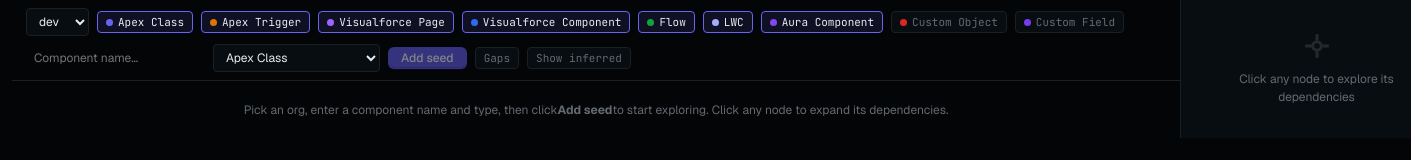
Test case: Dependency page — seed + expand › clears the graph when the org is switched
Type "AccountSvc" into the field with placeholder "Component name…". click: point(116, 58)
box: [26,46,205,70]
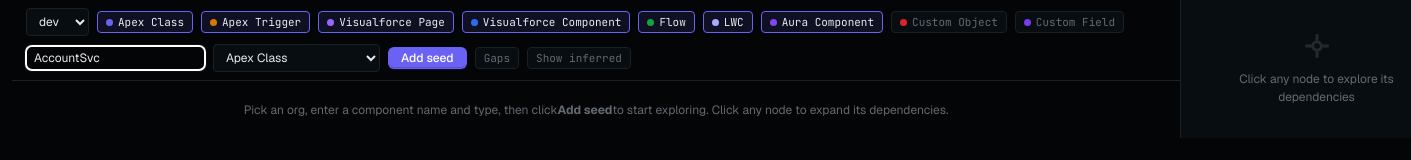
Click the button "Add seed". click: point(427, 58)
box: [388,47,467,69]
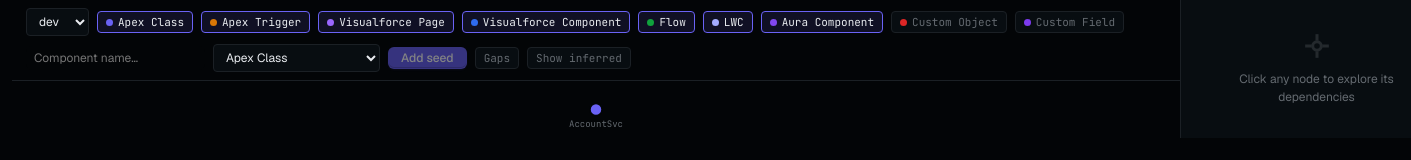
Expected: the text "AccountSvc" is shown, [569,118,623,130]
// switch org (the org selector is the first combobox in the toolbar)
Select "prod" in the 1st dropdown. click: point(58, 22)
box: [26,8,89,36]
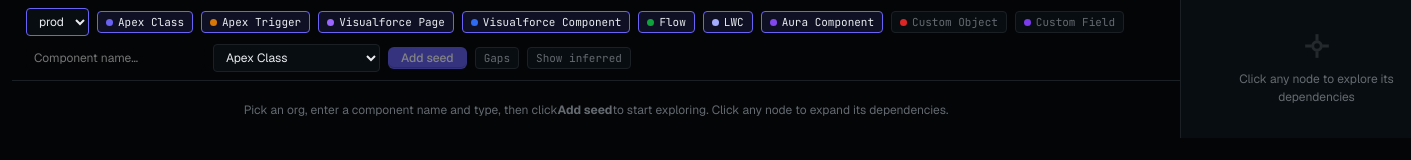
Expected: the icon "AccountSvc" is gone
